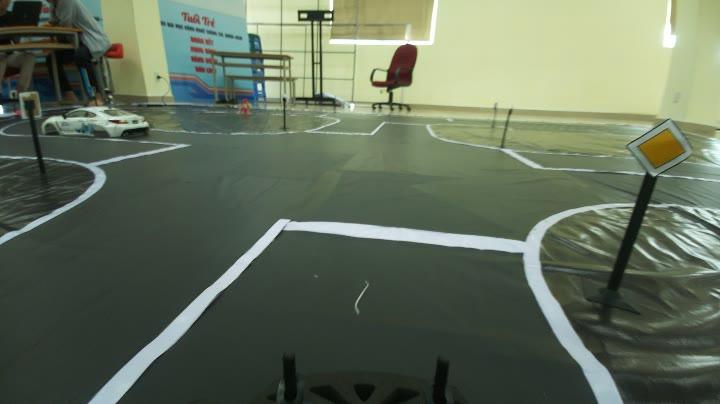priority: (630, 113, 694, 185)
